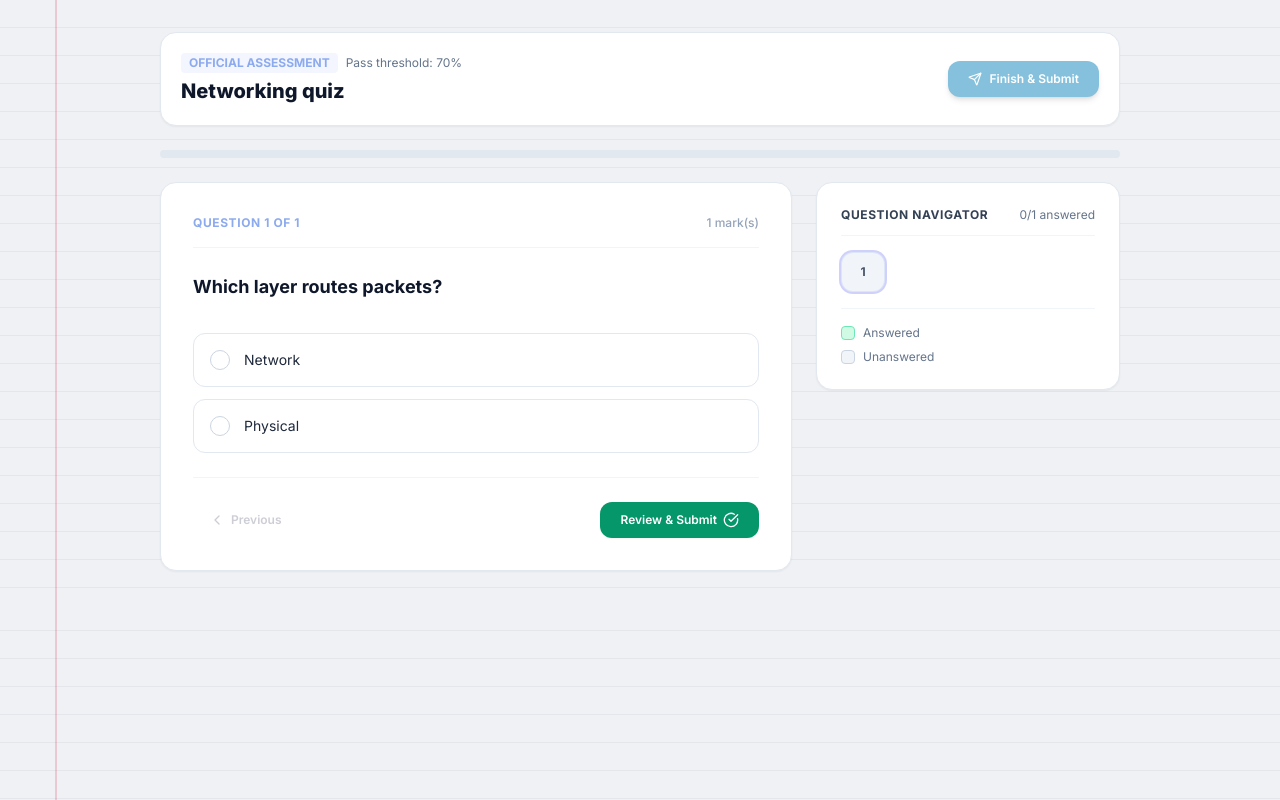
it: QuizPlayer › shows a submission failure from the server
Expected: the heading "Which layer routes packets?" is shown, [193,276,442,297]
Click the button "Finish & Submit" at (1023, 79), box [948,61,1099,97]
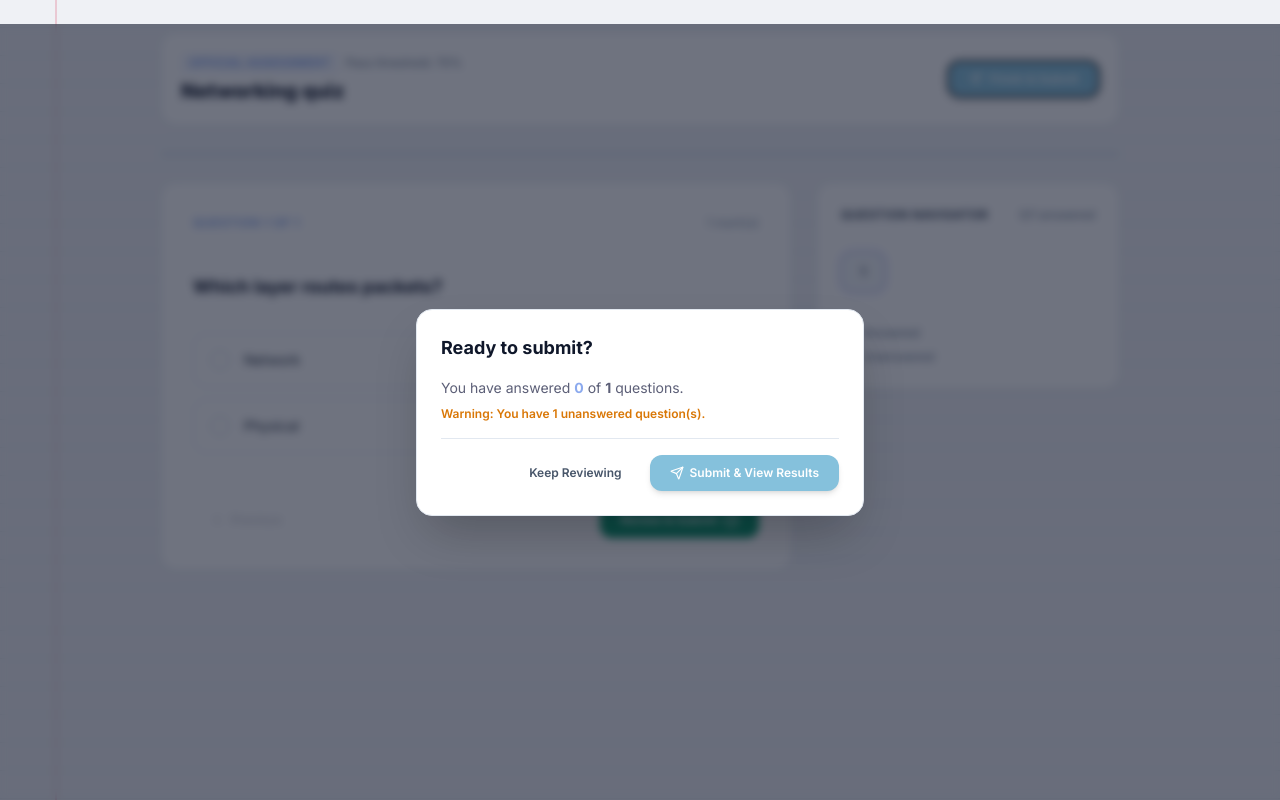
Click the button "Submit & View Results" at (744, 472), box [650,454,839,490]
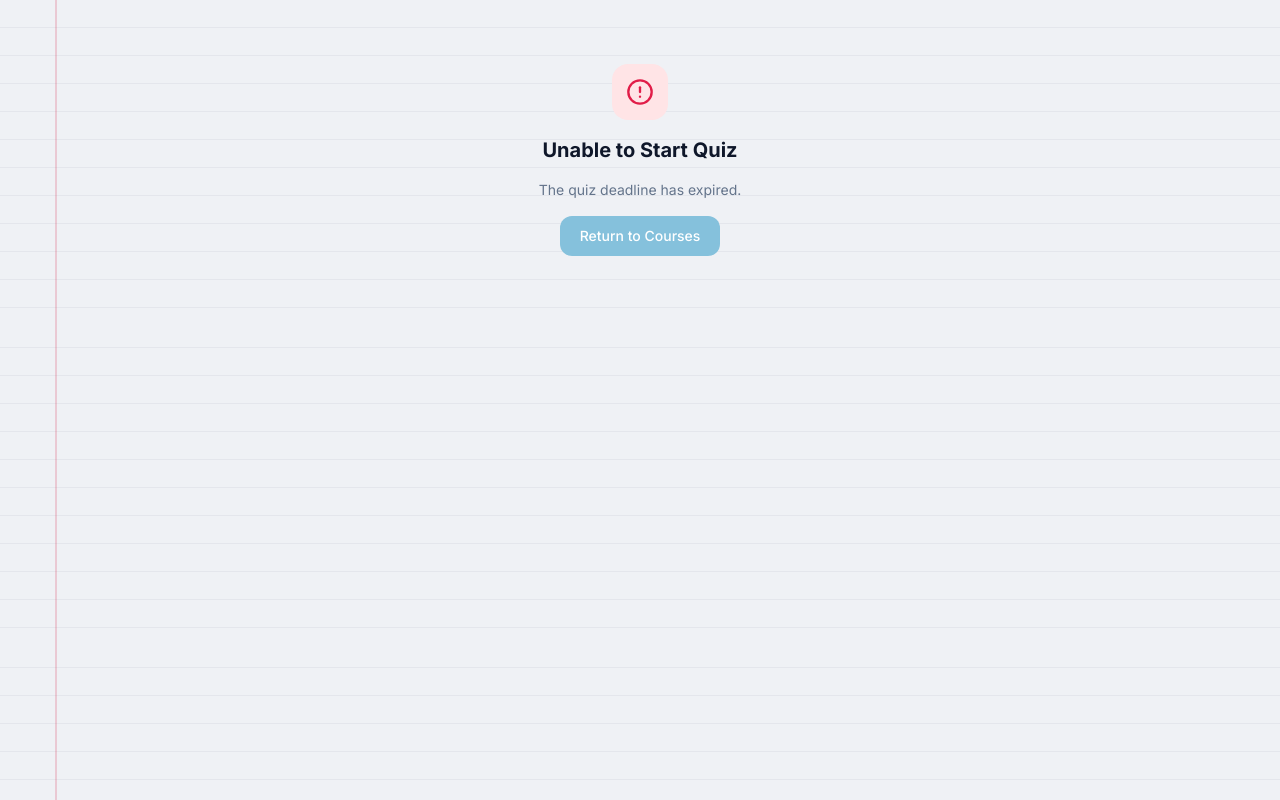
Expected: the text "The quiz deadline has expired." is shown, [539,181,741,198]
